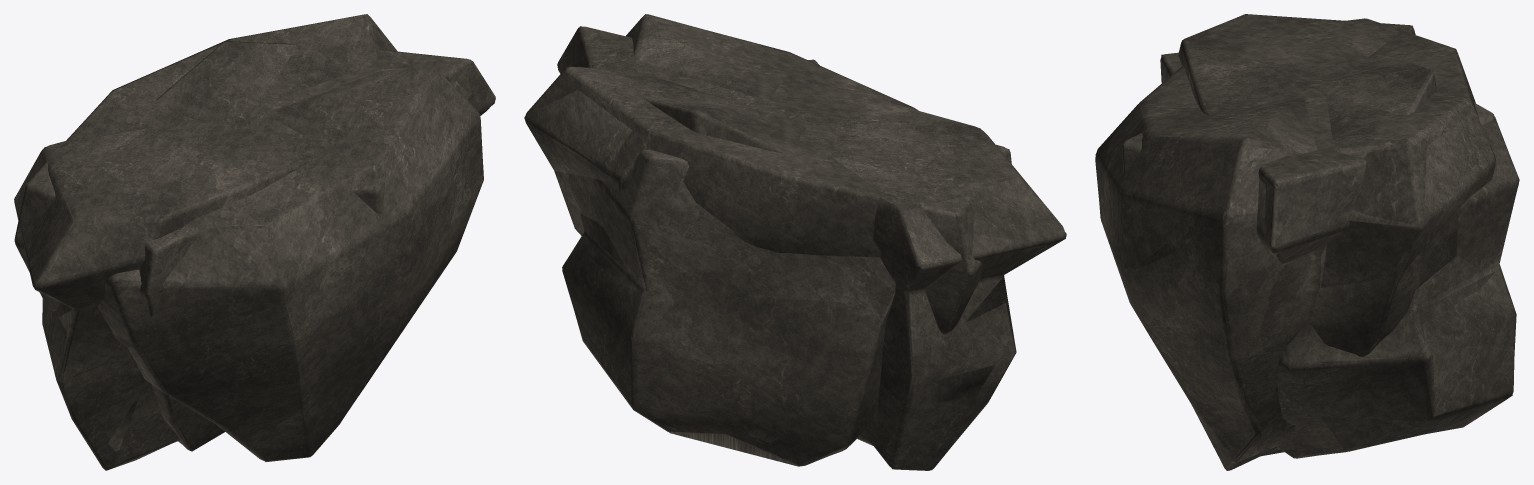
File: gallery-islands.glb
3 renders of one model, left to right at view 1: azimuth 30°, elevation 25°; view 2: azimuth 150°, elevation 25°; view 3: azimuth 270°, elevation 25°, orthographic. The views are drawn at different scales.
Parts seen in each view (by area): view 1: island-1-near, island-2-near, island-3-near, island-1-far, island-2-far; view 2: island-2-near, island-3-near, island-1-near, island-3-far, island-1-far, island-2-far; view 3: island-1-near, island-3-near, island-2-near, island-1-far, island-3-far, island-2-far.
Boxes of the visible parts, box(x1,y1,x2,y2) form: island-1-near: box(14, 14, 483, 461); island-2-near: box(14, 41, 495, 469); island-3-near: box(139, 178, 384, 450); island-1-far: box(14, 14, 483, 461); island-2-far: box(14, 41, 495, 470); island-2-near: box(557, 26, 1065, 470); island-3-near: box(562, 59, 1011, 466); island-1-near: box(525, 14, 982, 334); island-3-far: box(562, 60, 1009, 466); island-1-far: box(524, 14, 973, 334); island-2-far: box(577, 26, 1066, 470); island-1-near: box(1095, 18, 1495, 470); island-3-near: box(1122, 52, 1518, 458); island-2-near: box(1178, 14, 1436, 262); island-1-far: box(1099, 18, 1495, 464); island-3-far: box(1122, 54, 1519, 458); island-2-far: box(1182, 14, 1433, 263).
Size of the model in its own units: 4.67 by 3.34 by 3.13.
Materials: 1 (1 with a texture image).
